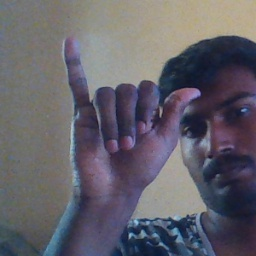J: (56, 35, 200, 195)
